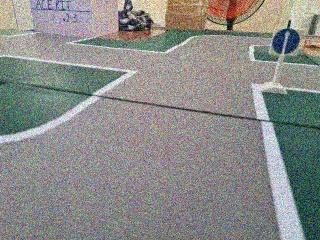straight: (269, 27, 302, 56)
